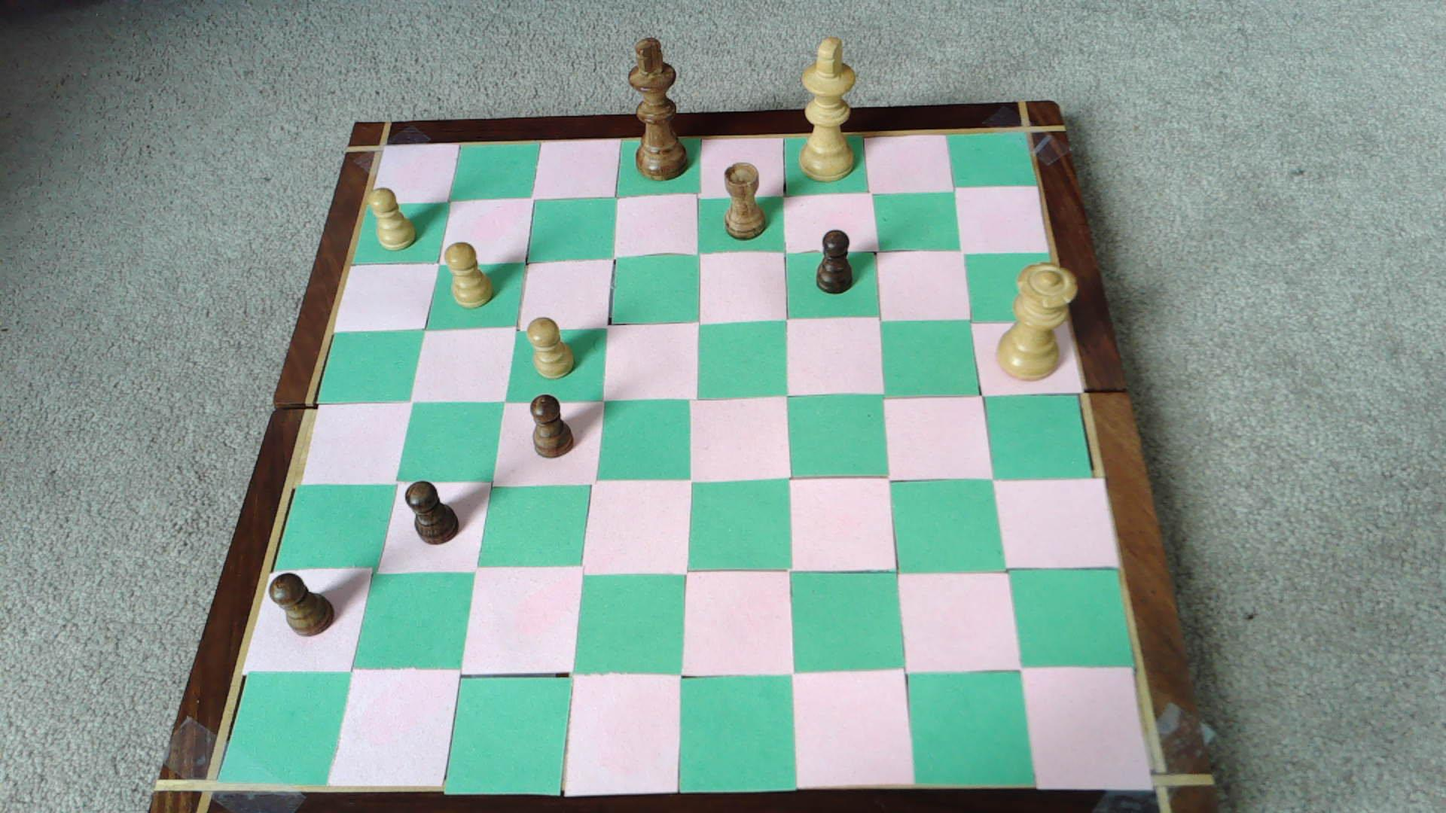dark_piece: (628, 38, 688, 179), (270, 573, 334, 635), (406, 481, 459, 543), (724, 163, 766, 238), (530, 394, 574, 457), (816, 230, 853, 293)
white_piece: (997, 266, 1076, 379), (798, 37, 857, 180), (444, 242, 493, 307), (526, 318, 574, 378), (370, 188, 416, 250)
